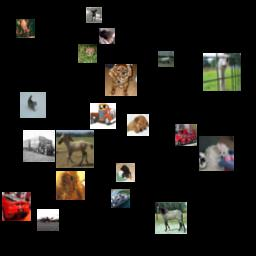airplane: (37, 209, 59, 231), (158, 51, 174, 67)
automobile: (2, 192, 31, 221)
bird: (203, 53, 241, 91)
cat: (56, 171, 85, 200), (20, 92, 46, 118), (99, 28, 115, 44)
deer: (16, 19, 35, 38)
dog: (199, 136, 234, 171), (105, 64, 137, 96), (127, 114, 149, 136), (116, 163, 135, 182), (86, 7, 102, 23)
frog: (78, 44, 97, 63)
ship: (111, 189, 130, 208)
truck: (23, 130, 55, 162), (90, 103, 116, 129), (175, 124, 197, 146)
